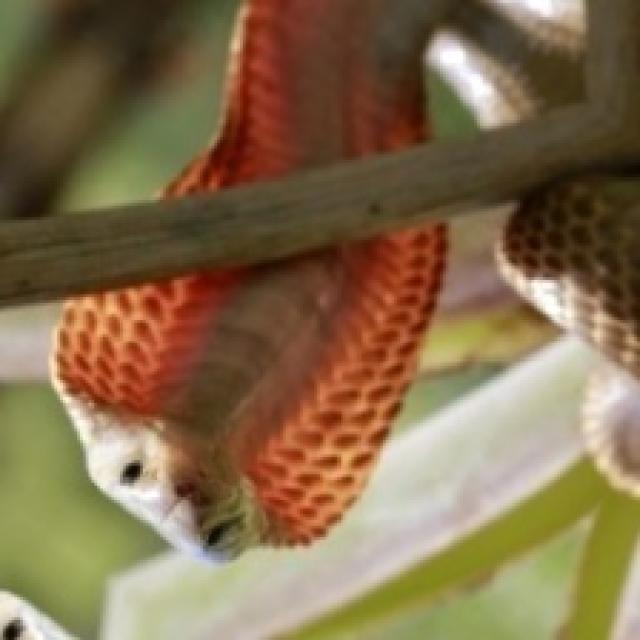philippine cobra: (51, 223, 443, 557), (54, 223, 443, 557), (166, 0, 451, 194), (499, 174, 640, 378)
